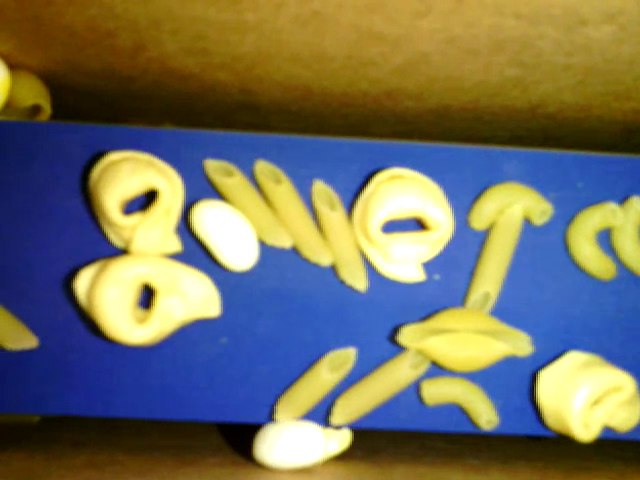elbow: (394, 304, 537, 371), (564, 196, 621, 286), (419, 373, 503, 432), (466, 181, 553, 232), (1, 63, 56, 126), (610, 194, 639, 274)
penne: (253, 155, 337, 269), (332, 335, 435, 427), (202, 160, 294, 249), (461, 198, 524, 314), (311, 175, 370, 295), (272, 343, 357, 423), (1, 303, 43, 349)
tortellini: (70, 255, 222, 347), (349, 164, 456, 284), (529, 341, 639, 444), (83, 150, 186, 257)
